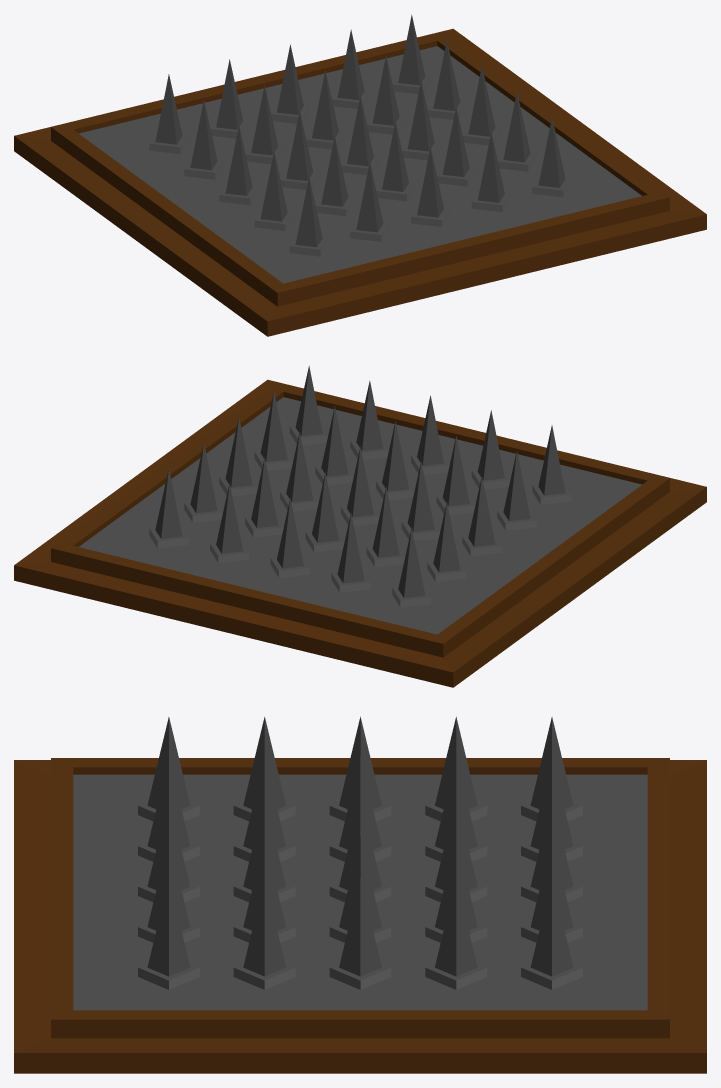
Rendered from Spike Trap.fbx.
3 views of the same model, one above another, from view 1: azimuth 30°, elevation 25°; view 2: azimuth 150°, elevation 25°; view 3: azimuth 270°, elevation 25° (orthographic). The views are drawn at different scales.
Parts seen in each view (by area): view 1: Cube; view 2: Cube; view 3: Cube.
Boxes of the visible parts, x1=… form: Cube: x1=14, y1=14, x2=706, y2=336; Cube: x1=14, y1=365, x2=706, y2=687; Cube: x1=14, y1=716, x2=706, y2=1073.
Bounding box in the file's own units: 672 × 139 × 672.
